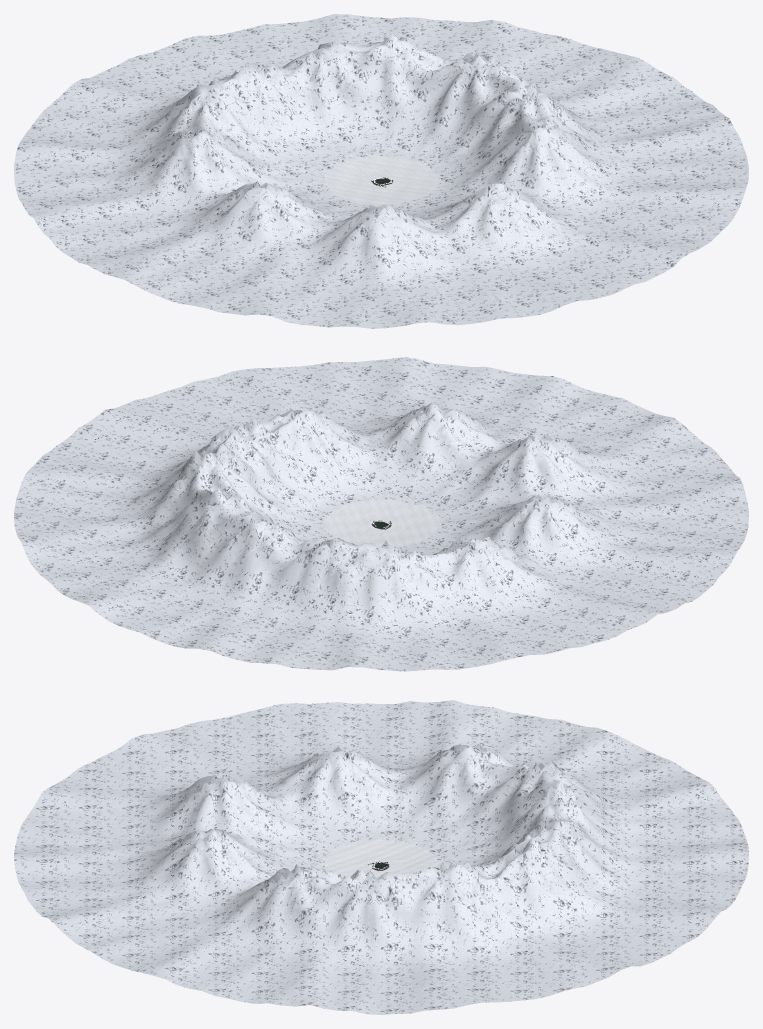
The model's file is onsen_pool_and_terrain.glb.
3 views of the same model, one above another, from view 1: azimuth 30°, elevation 25°; view 2: azimuth 150°, elevation 25°; view 3: azimuth 270°, elevation 25° (orthographic).
Parts seen in each view (by area): view 1: SnowyMountainRange, SnowGroundNear; view 2: SnowyMountainRange, SnowGroundNear; view 3: SnowyMountainRange, SnowGroundNear.
Part boxes in pixels (x1,y1,x2,y2): SnowyMountainRange: [14, 14, 748, 328]; SnowGroundNear: [318, 152, 440, 205]; SnowyMountainRange: [14, 357, 748, 671]; SnowGroundNear: [323, 497, 441, 547]; SnowyMountainRange: [14, 700, 748, 1014]; SnowGroundNear: [315, 835, 447, 878].
Bounding box in the file's own units: 310 × 34.08 × 310.
Materials: 4 (4 with a texture image).
